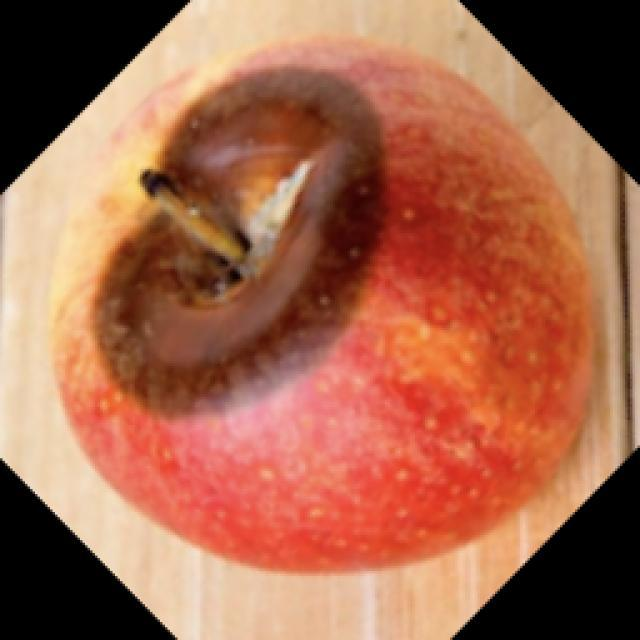Rotten: (83, 28, 600, 580)
